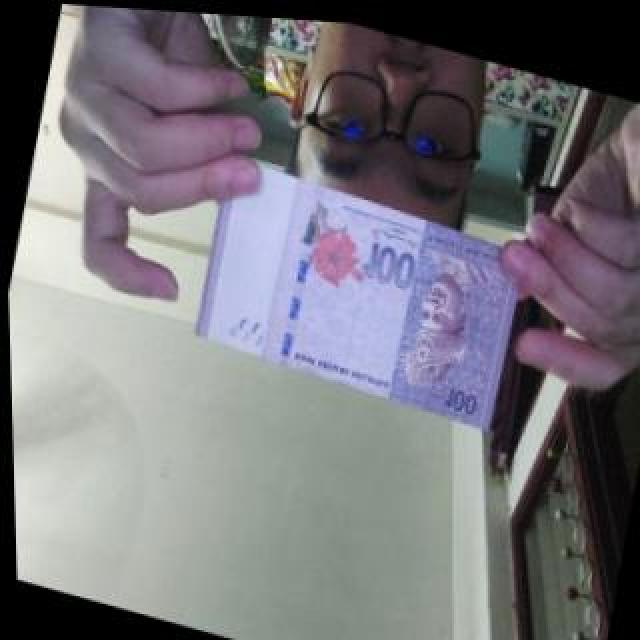100 Ringgit: (172, 138, 546, 429)
